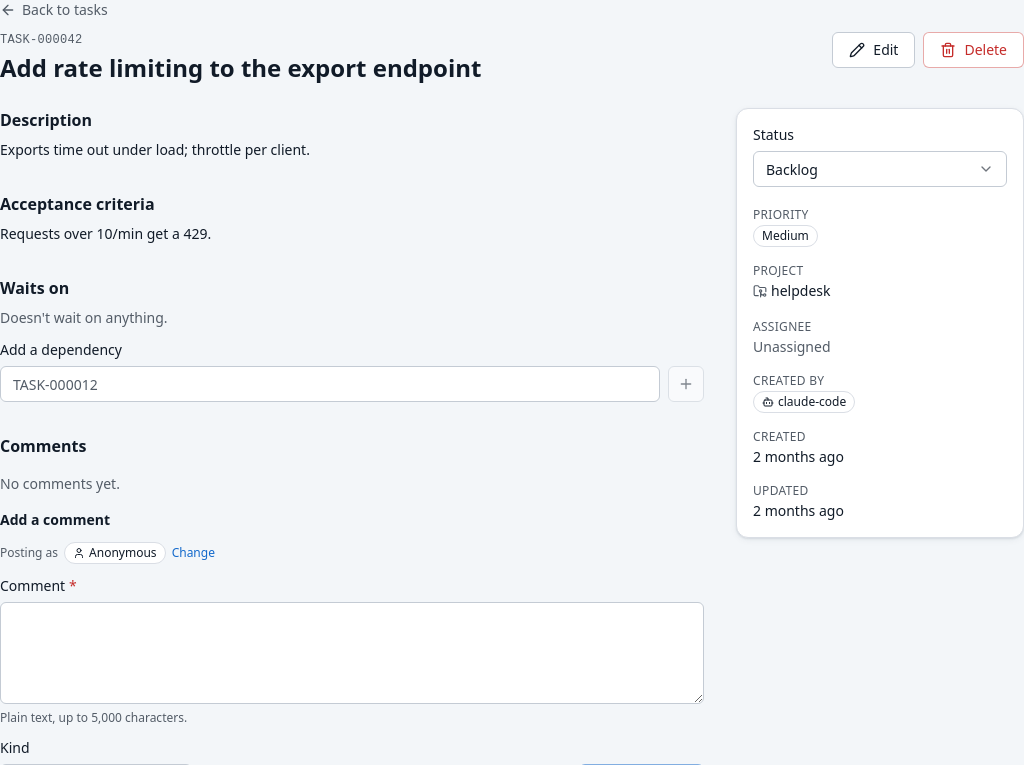
Scenario: TaskDetailPage — status change › reopens a direct move as the dialog when the server asks for more
The image size is (1024, 765).
Click the dropdown named "status": (880, 169) [753,151,1007,187]
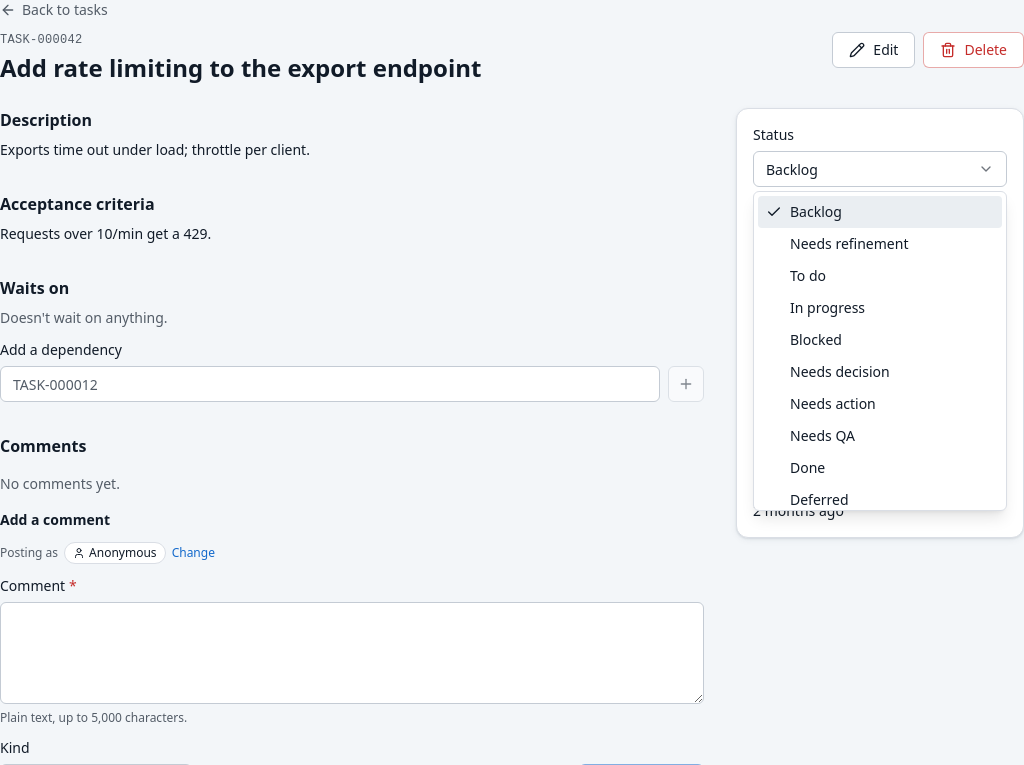
Click the option "To do": (808, 276) [790,266,826,285]
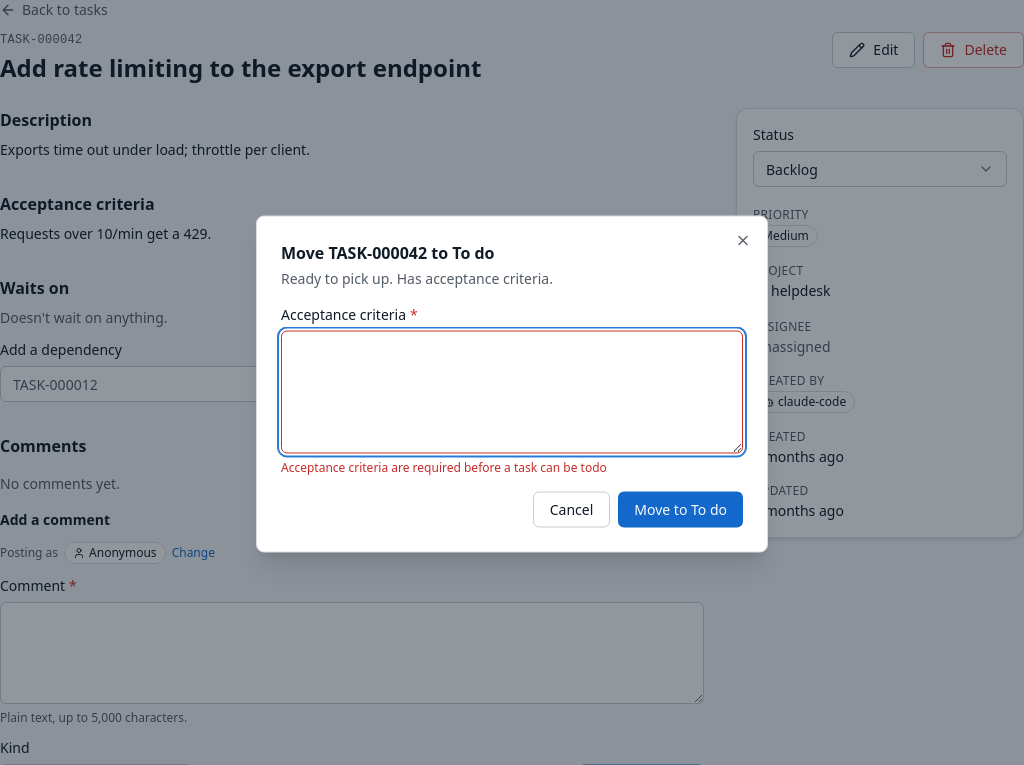
Result: the text "Acceptance criteria are required before a task can be todo" is shown at [281,458,607,476]
